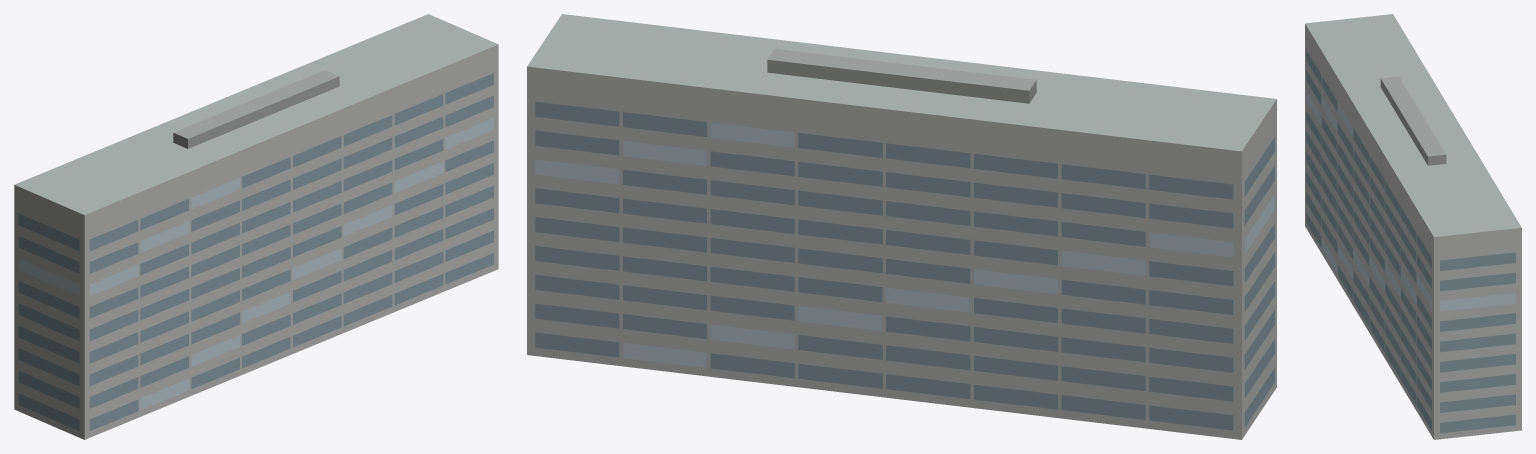
File: fallback-olympic-athletes-village-309.glb
3 views of the same model, side by side, from view 1: azimuth 30°, elevation 25°; view 2: azimuth 150°, elevation 25°; view 3: azimuth 270°, elevation 25° (orthographic). The views are drawn at different scales.
Visible parts, largest first — view 1: fallback-olympic-athletes-village-309; view 2: fallback-olympic-athletes-village-309; view 3: fallback-olympic-athletes-village-309.
Boxes of the visible parts, left/top/right/bottom form: fallback-olympic-athletes-village-309: left=14, top=14, right=498, bottom=439; fallback-olympic-athletes-village-309: left=527, top=14, right=1276, bottom=439; fallback-olympic-athletes-village-309: left=1305, top=14, right=1521, bottom=439.
Size of the model in its own units: 72 by 31.87 by 29.55.
